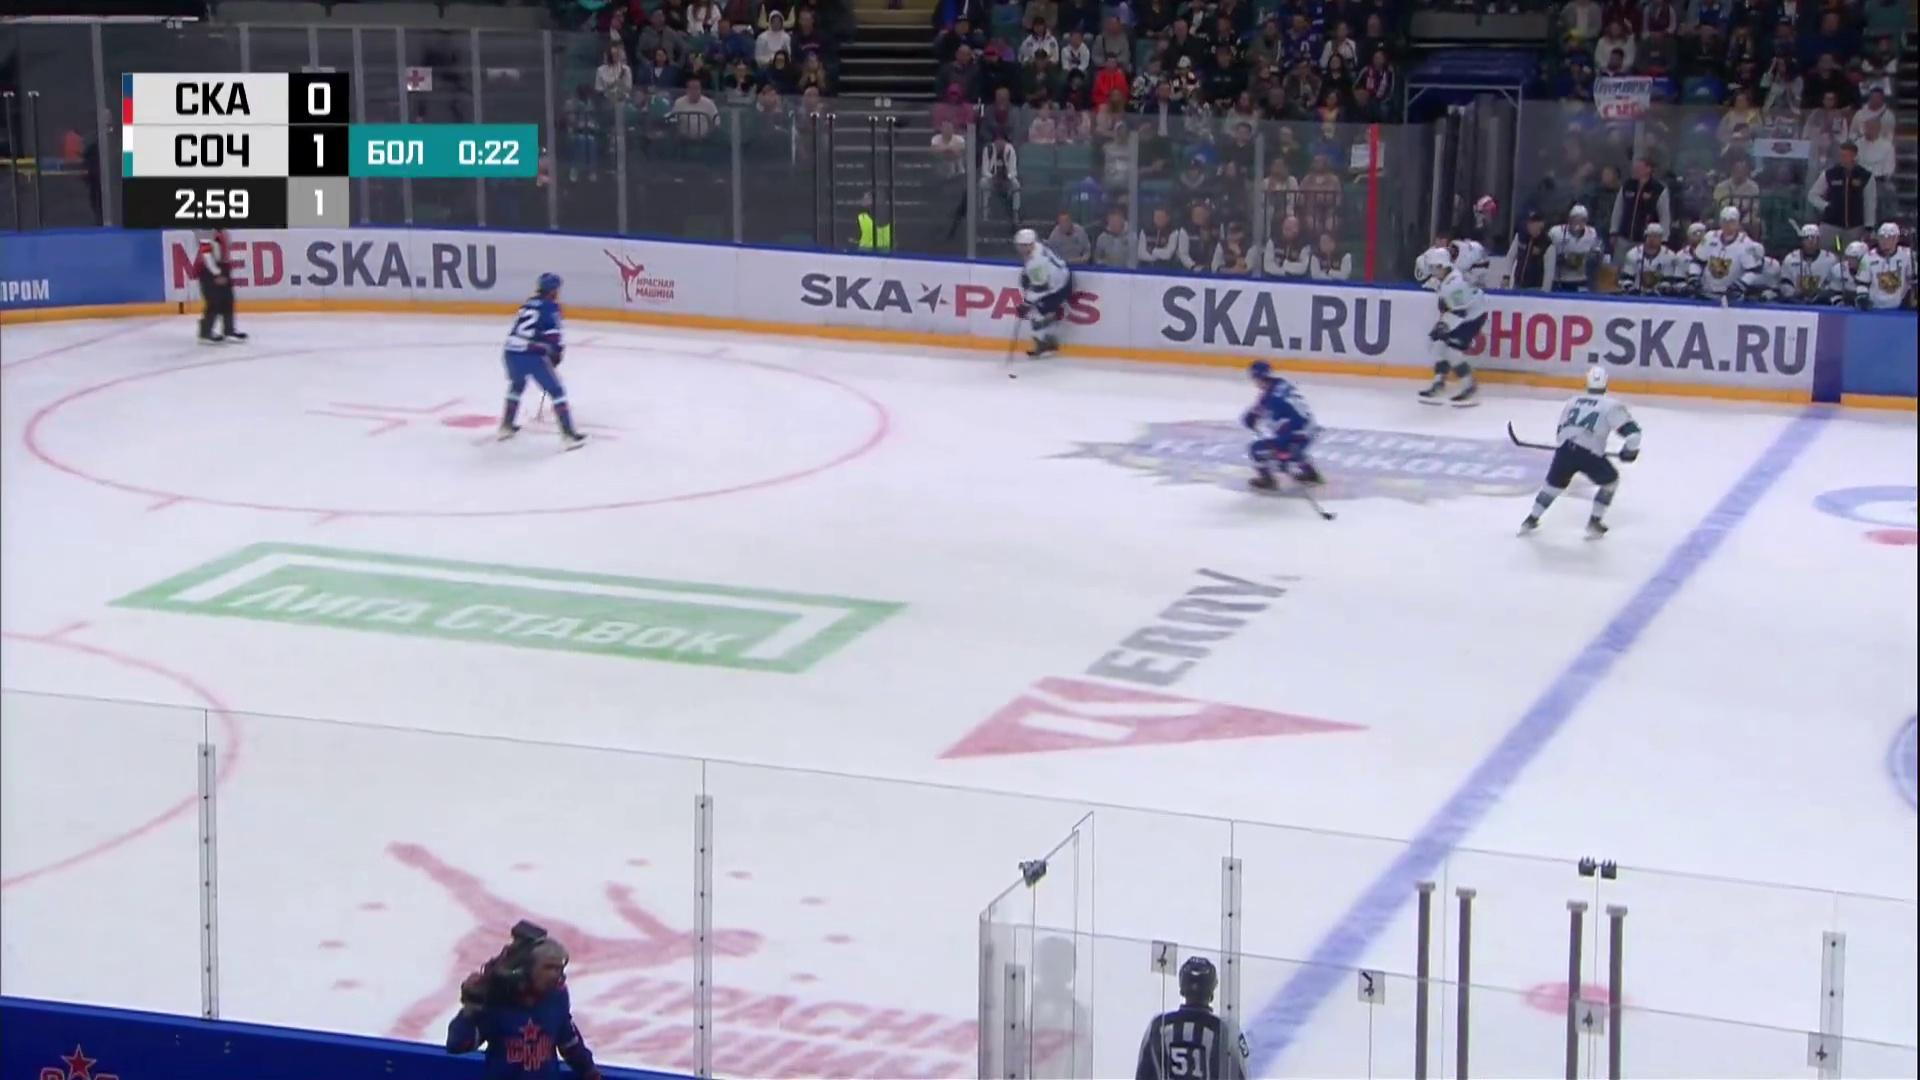ball: (1007, 373, 1018, 378)
